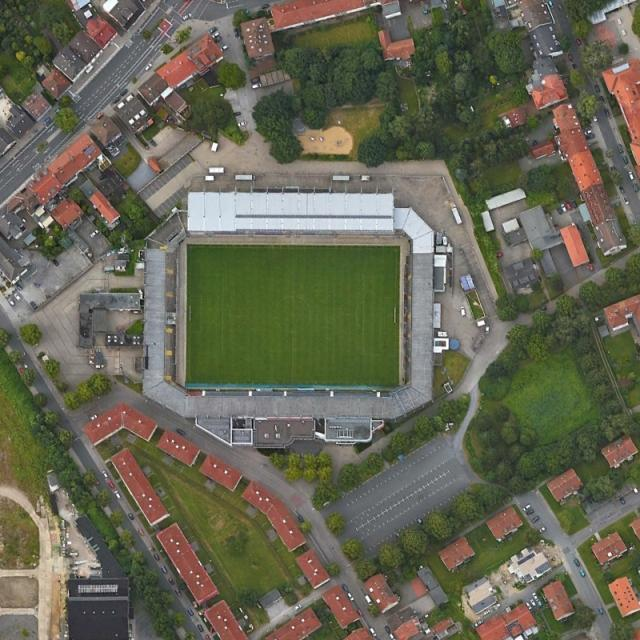vehicle: (233, 172, 256, 182), (332, 174, 349, 182), (366, 594, 374, 606), (574, 556, 581, 568), (561, 202, 568, 214), (627, 170, 634, 182), (208, 26, 218, 34), (176, 429, 187, 436), (102, 470, 109, 481), (618, 143, 625, 154), (622, 155, 629, 166), (14, 293, 22, 302), (6, 298, 15, 306), (114, 490, 122, 499), (186, 607, 194, 616), (346, 593, 354, 602), (473, 620, 485, 626), (522, 503, 531, 511), (148, 138, 157, 146), (220, 45, 229, 53), (604, 106, 610, 118), (119, 88, 129, 95), (370, 627, 377, 637), (556, 206, 563, 216), (237, 121, 247, 128), (594, 84, 601, 94), (622, 196, 629, 206), (566, 200, 572, 211), (571, 198, 577, 209), (183, 12, 191, 20), (145, 63, 153, 71), (137, 529, 145, 537), (538, 526, 546, 534), (214, 35, 222, 43), (30, 301, 37, 310), (19, 366, 26, 375), (175, 588, 182, 597), (619, 496, 626, 505), (632, 183, 639, 192), (232, 111, 242, 117), (251, 83, 261, 89), (233, 29, 239, 39), (586, 134, 596, 140), (196, 624, 203, 632), (342, 584, 349, 592), (579, 569, 586, 577), (531, 516, 538, 524), (575, 38, 582, 46), (618, 186, 625, 194), (460, 306, 465, 317), (250, 77, 259, 83), (599, 95, 605, 104), (389, 633, 396, 640), (496, 251, 503, 258), (96, 112, 104, 118), (109, 480, 115, 488), (294, 605, 302, 611), (598, 606, 604, 614), (526, 509, 534, 515), (482, 609, 491, 614), (589, 262, 594, 271), (549, 1, 554, 10), (569, 53, 574, 62), (129, 513, 135, 520), (168, 578, 174, 585), (205, 634, 212, 640), (633, 488, 639, 495), (161, 566, 166, 574), (526, 602, 531, 610), (531, 598, 536, 606), (534, 593, 539, 601), (585, 130, 593, 135), (358, 607, 362, 616), (212, 33, 218, 39), (43, 118, 50, 123), (55, 109, 62, 114), (154, 554, 159, 561), (386, 626, 390, 634), (112, 98, 119, 102), (90, 414, 95, 419)
